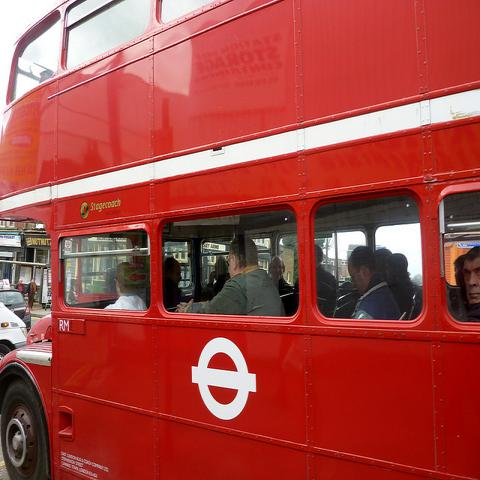bus: (0, 0, 479, 475)
car: (0, 302, 28, 361), (0, 289, 31, 332)
